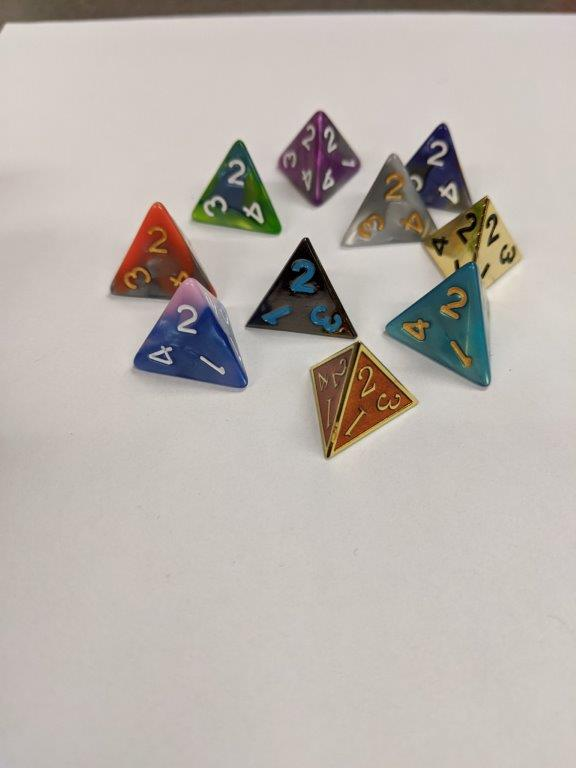d4-2: (384, 261, 497, 393), (300, 338, 417, 462), (129, 277, 247, 390), (243, 238, 357, 340), (111, 195, 220, 301), (425, 192, 525, 299), (190, 137, 283, 239), (342, 151, 439, 244), (274, 108, 364, 208), (402, 117, 474, 216)
